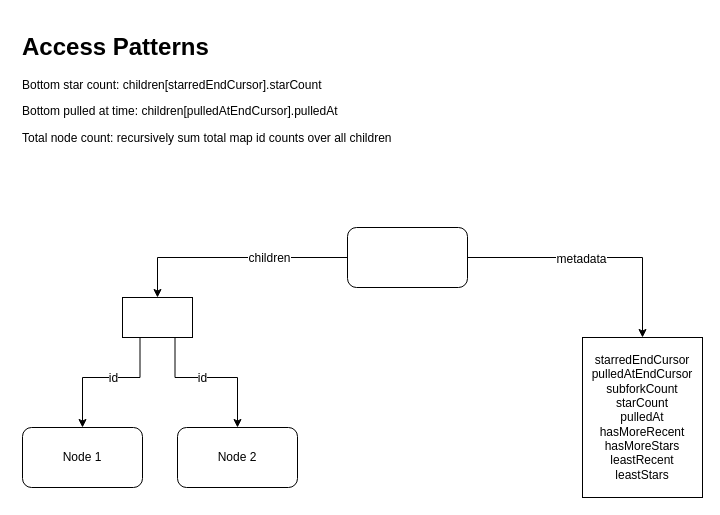
This 720x515 diagram has some shape labels left out. Each missing label, with the box of its shape:
map: (122, 296, 192, 338)
Node: (346, 226, 468, 288)
